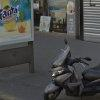Motorcycle: (34, 38, 100, 100)
